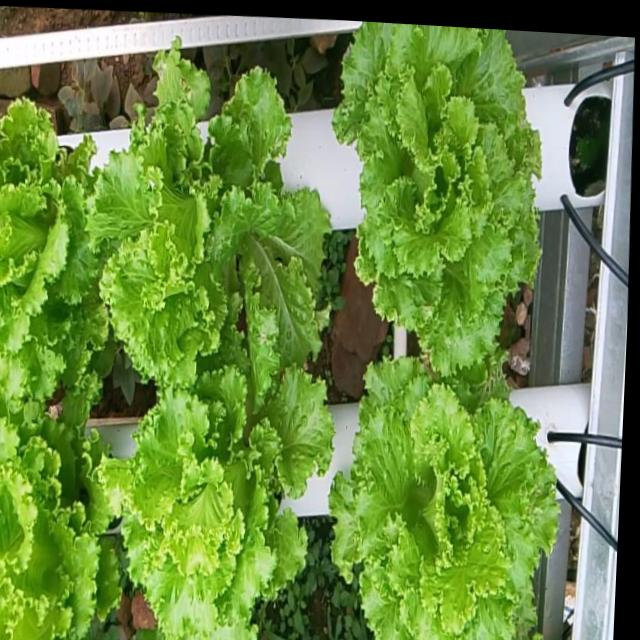Mature: (83, 41, 326, 375), (328, 21, 536, 374), (104, 336, 328, 640), (323, 352, 553, 640), (0, 88, 100, 392), (0, 396, 114, 640)
